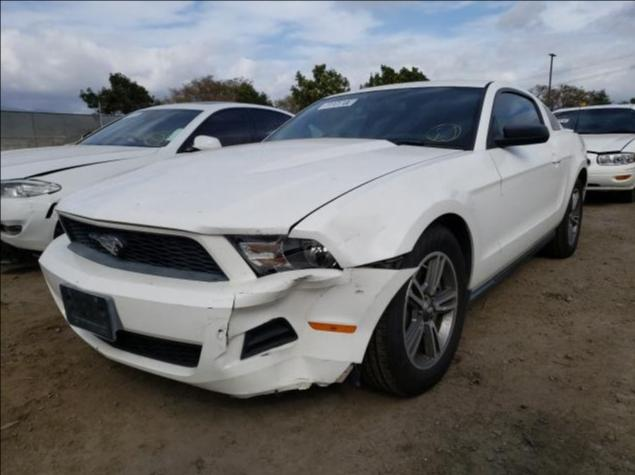Broken part: (285, 166, 406, 237), (55, 209, 223, 237), (229, 362, 361, 397), (341, 247, 418, 273), (214, 292, 236, 359)
Dent: (220, 276, 353, 390), (318, 213, 385, 260), (194, 226, 288, 235), (448, 190, 473, 209)
Missing part: (60, 285, 113, 338), (239, 317, 296, 360)
Paint chip: (292, 274, 312, 281), (216, 328, 223, 339), (260, 352, 270, 356), (355, 289, 363, 293), (96, 346, 98, 351), (238, 292, 247, 293), (256, 229, 259, 232), (206, 307, 212, 308), (76, 280, 78, 283)
